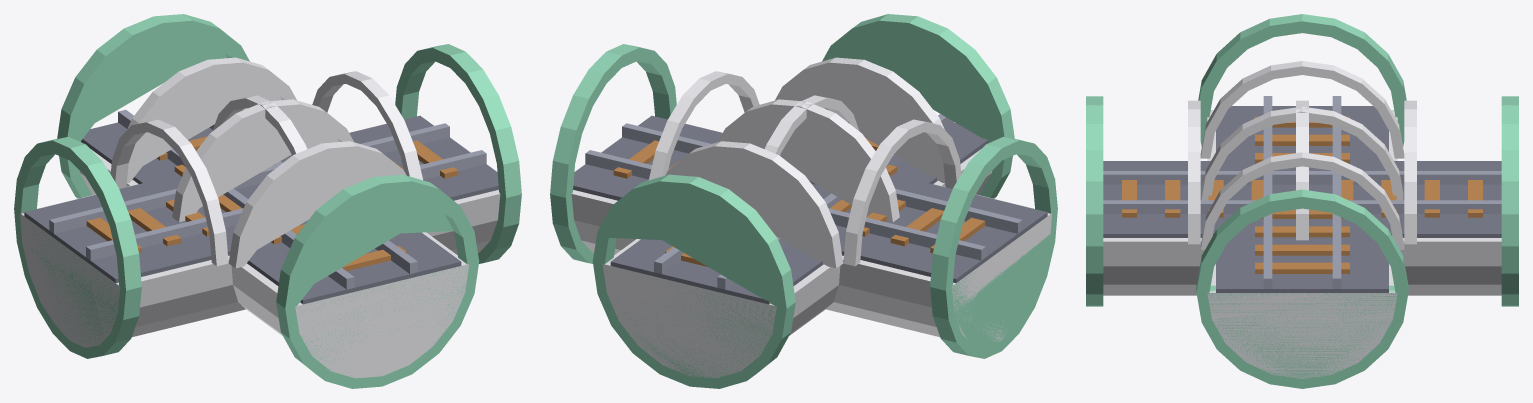
The model's file is tunnel-1x1-crossroad.glb.
3 views of the same model, side by side, from view 1: azimuth 30°, elevation 25°; view 2: azimuth 150°, elevation 25°; view 3: azimuth 270°, elevation 25° (orthographic). The views are drawn at different scales.
Visible parts, largest first — view 1: tunnel-1x1-crossroad; view 2: tunnel-1x1-crossroad; view 3: tunnel-1x1-crossroad.
Part boxes in pixels (x1,y1,x2,y2): tunnel-1x1-crossroad: (14, 14, 521, 388); tunnel-1x1-crossroad: (550, 14, 1057, 388); tunnel-1x1-crossroad: (1086, 14, 1518, 388).
Size of the model in its own units: 1 by 0.49 by 1.
1 material, 1 textured.
